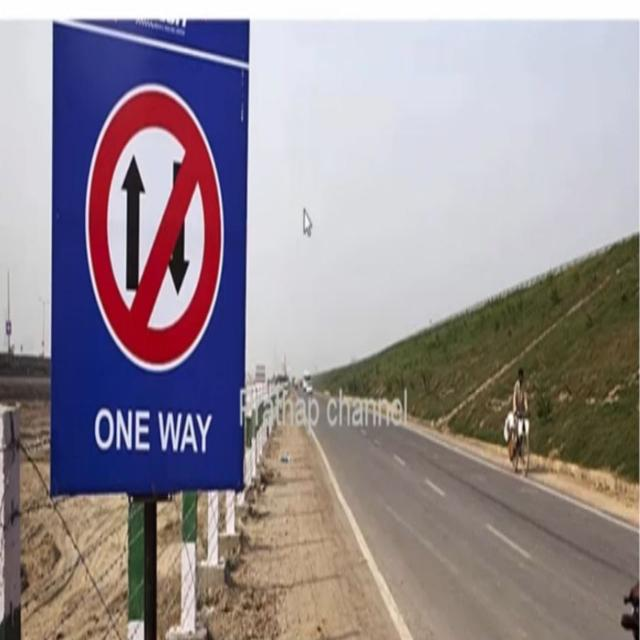left_hand_curve: (93, 94, 225, 374)
